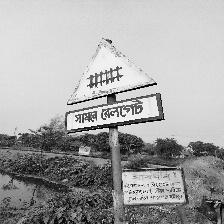Rail-crossing: (65, 39, 163, 133)
